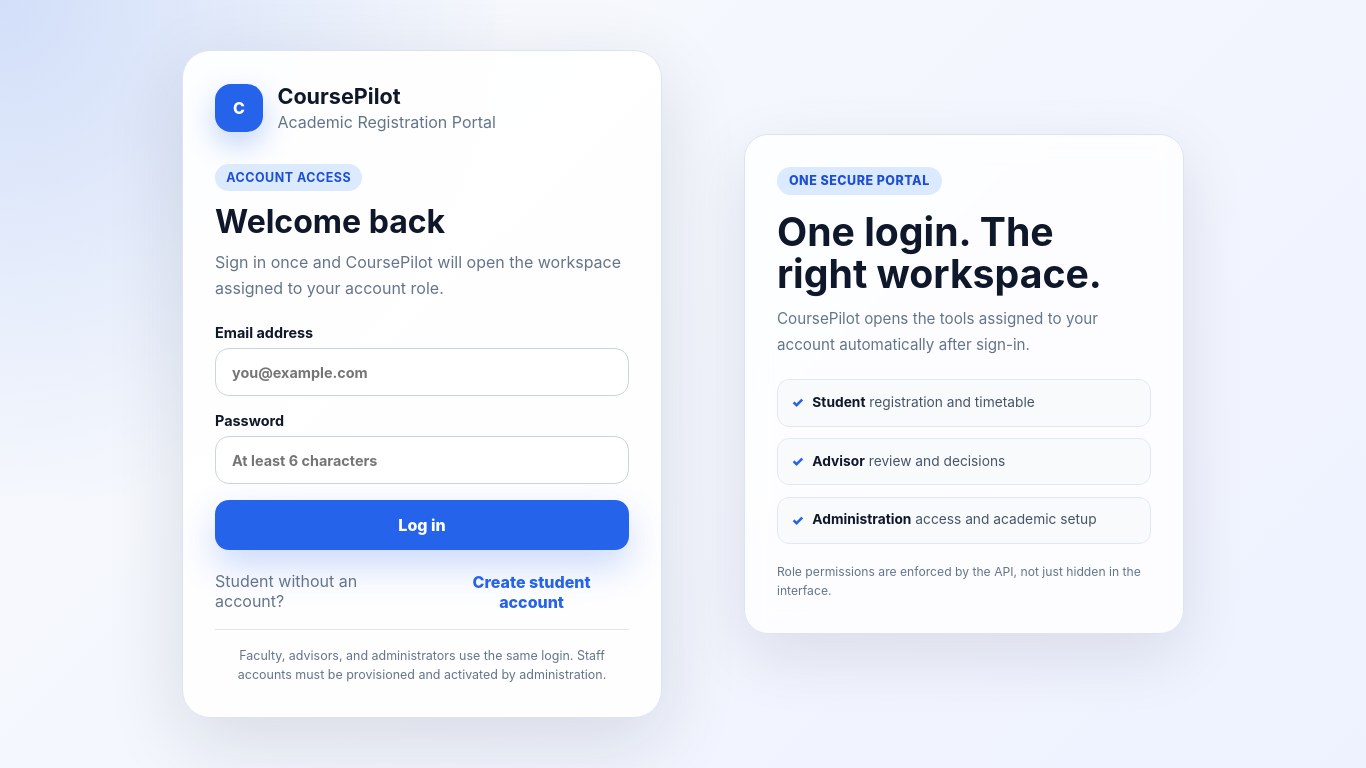
Test: LoginPage › keeps public self-registration explicitly student-only
Click the button "Create student account" at (532, 592), box [434,571,629,613]
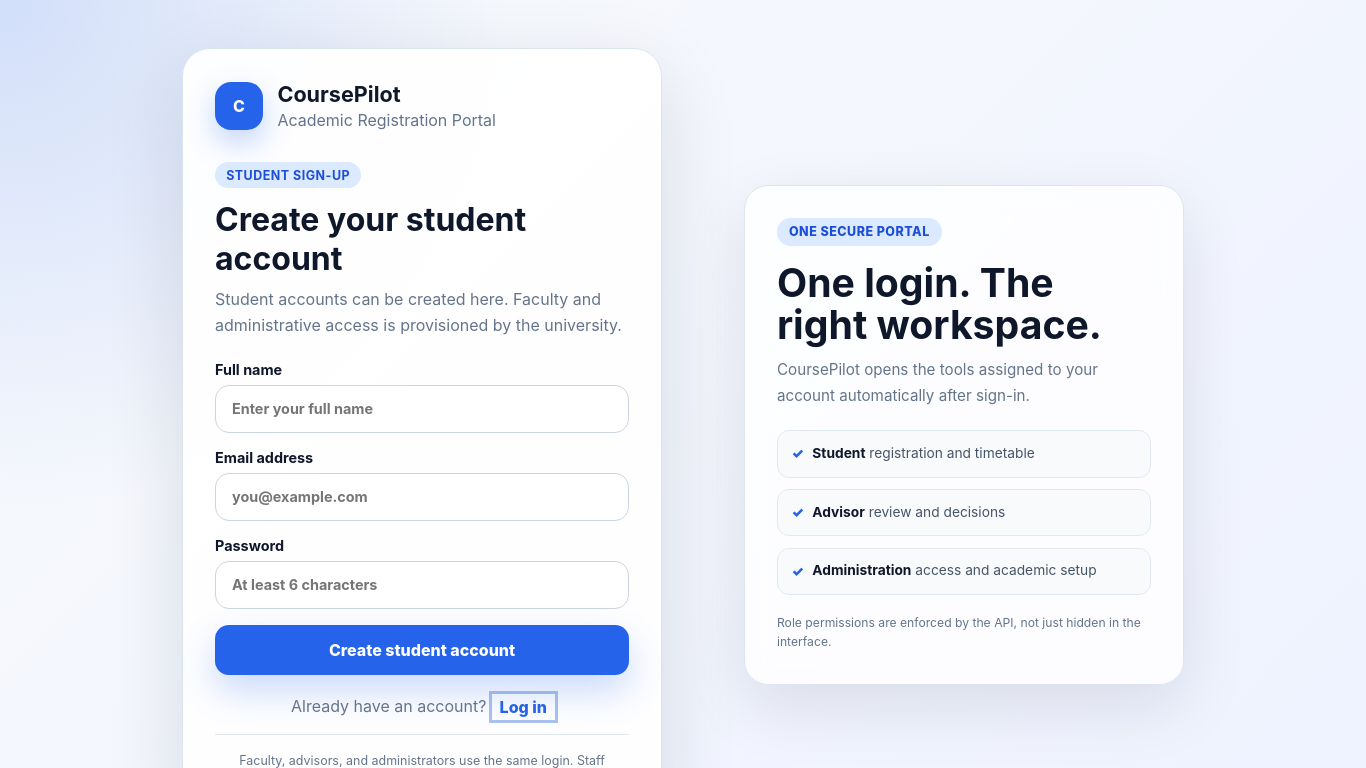
Now the text "Student sign-up" is shown, box [215,162,361,188]
Now the heading "Create your student account" is shown, box [215,200,526,278]
Now the text "Faculty and administrative access is provisioned" is shown, box [215,289,622,335]
